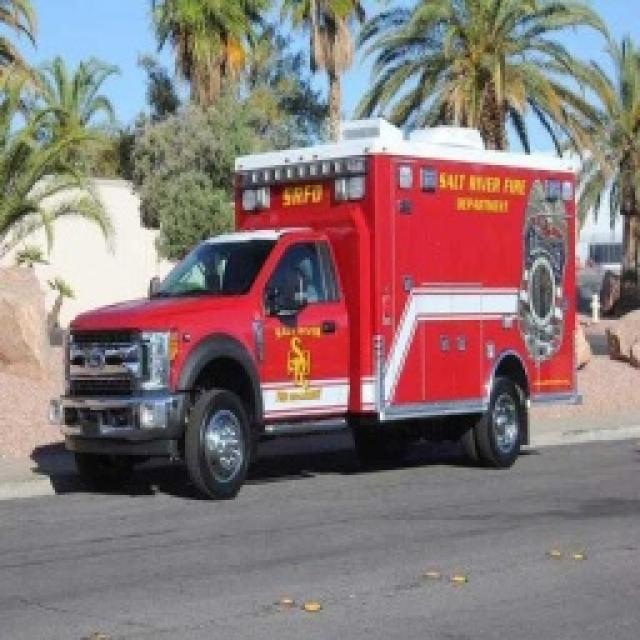emergency-vehicle: (56, 120, 584, 489)
